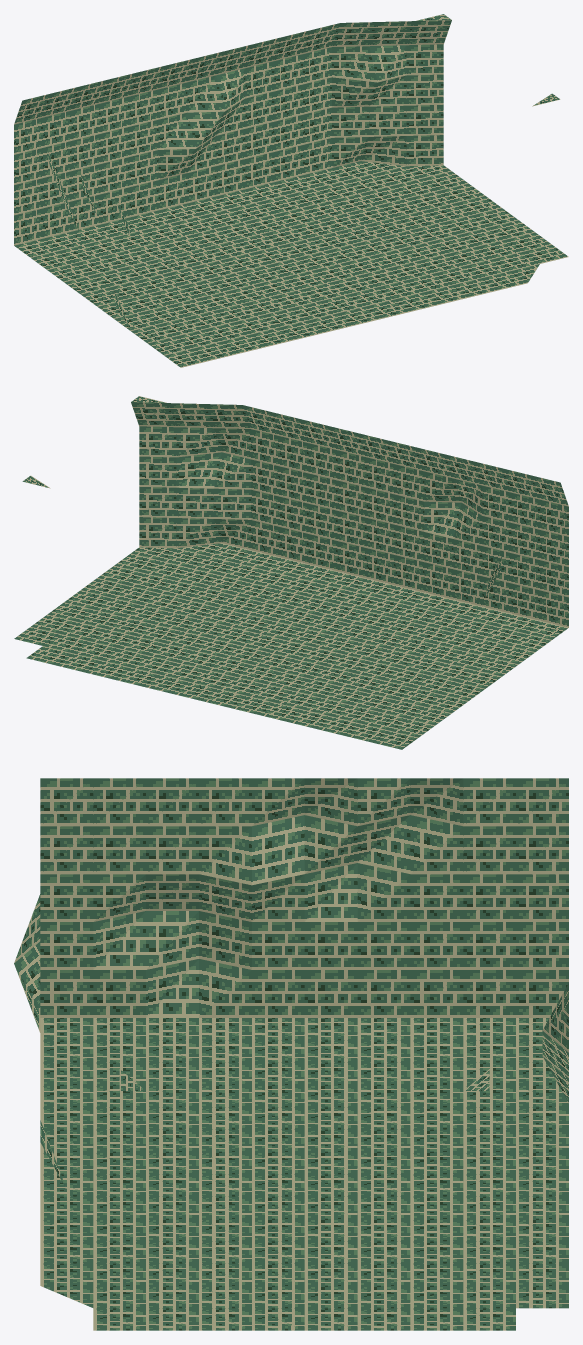
The model's file is Start.gltf.
The picture shows the model from 3 angles, top to bottom: view 1: azimuth 30°, elevation 25°; view 2: azimuth 150°, elevation 25°; view 3: azimuth 270°, elevation 25°; orthographic projection. The views are drawn at different scales.
Bounding box in the file's own units: 14.5 × 5 × 10.5.
2 materials, 2 textured.
